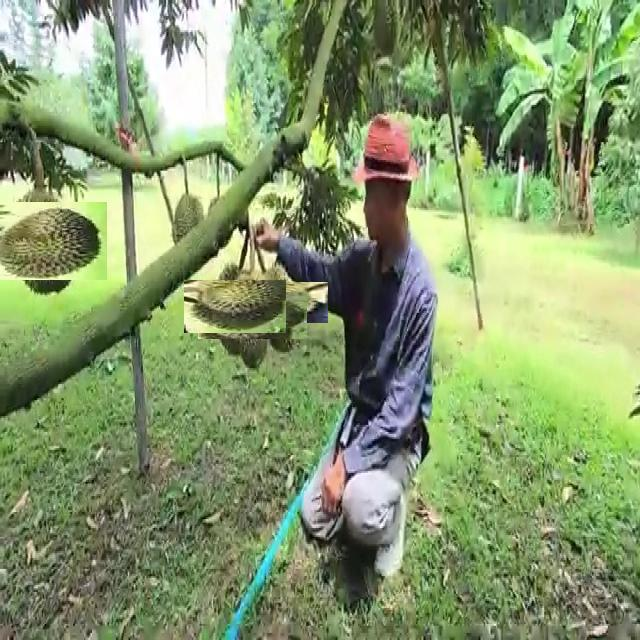durian: (0, 191, 98, 290), (213, 277, 292, 355), (196, 268, 275, 346), (241, 266, 313, 338), (168, 188, 206, 264), (205, 190, 233, 251)
